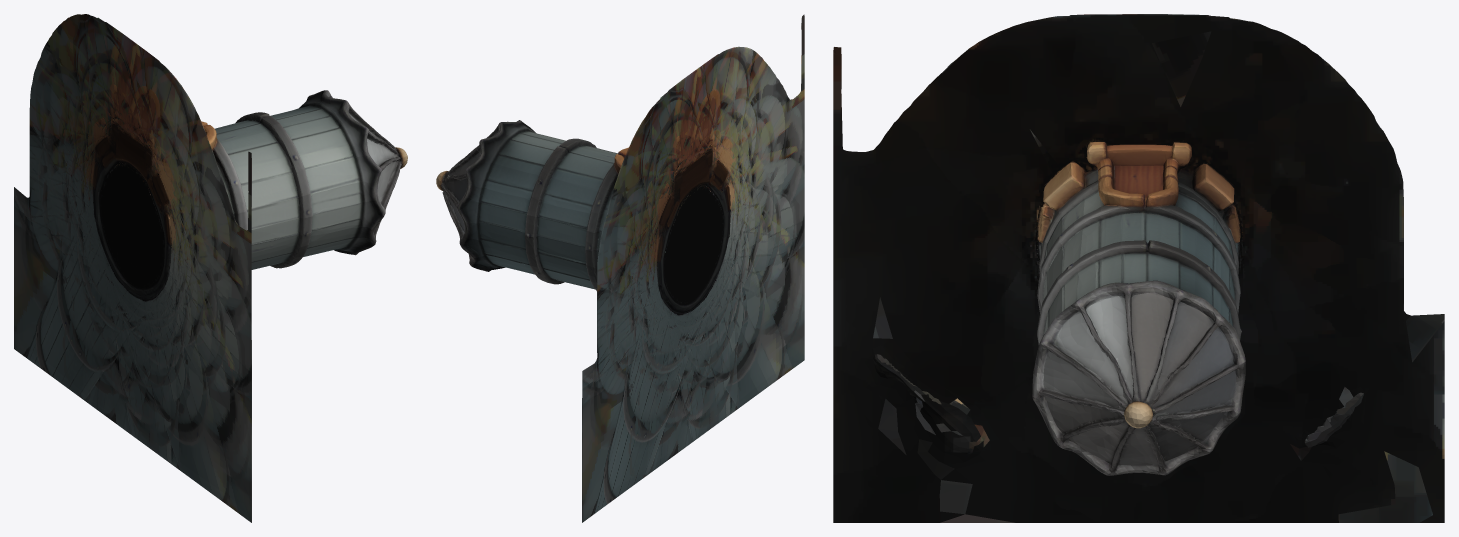
The model's file is feed_silo_comfyui.glb.
The picture shows the model from 3 angles, left to right: view 1: azimuth 30°, elevation 25°; view 2: azimuth 150°, elevation 25°; view 3: azimuth 270°, elevation 25°; orthographic projection. The views are drawn at different scales.
Bounding box in the file's own units: 0.6702 × 0.918 × 1.
Materials: 1 (1 with a texture image).
